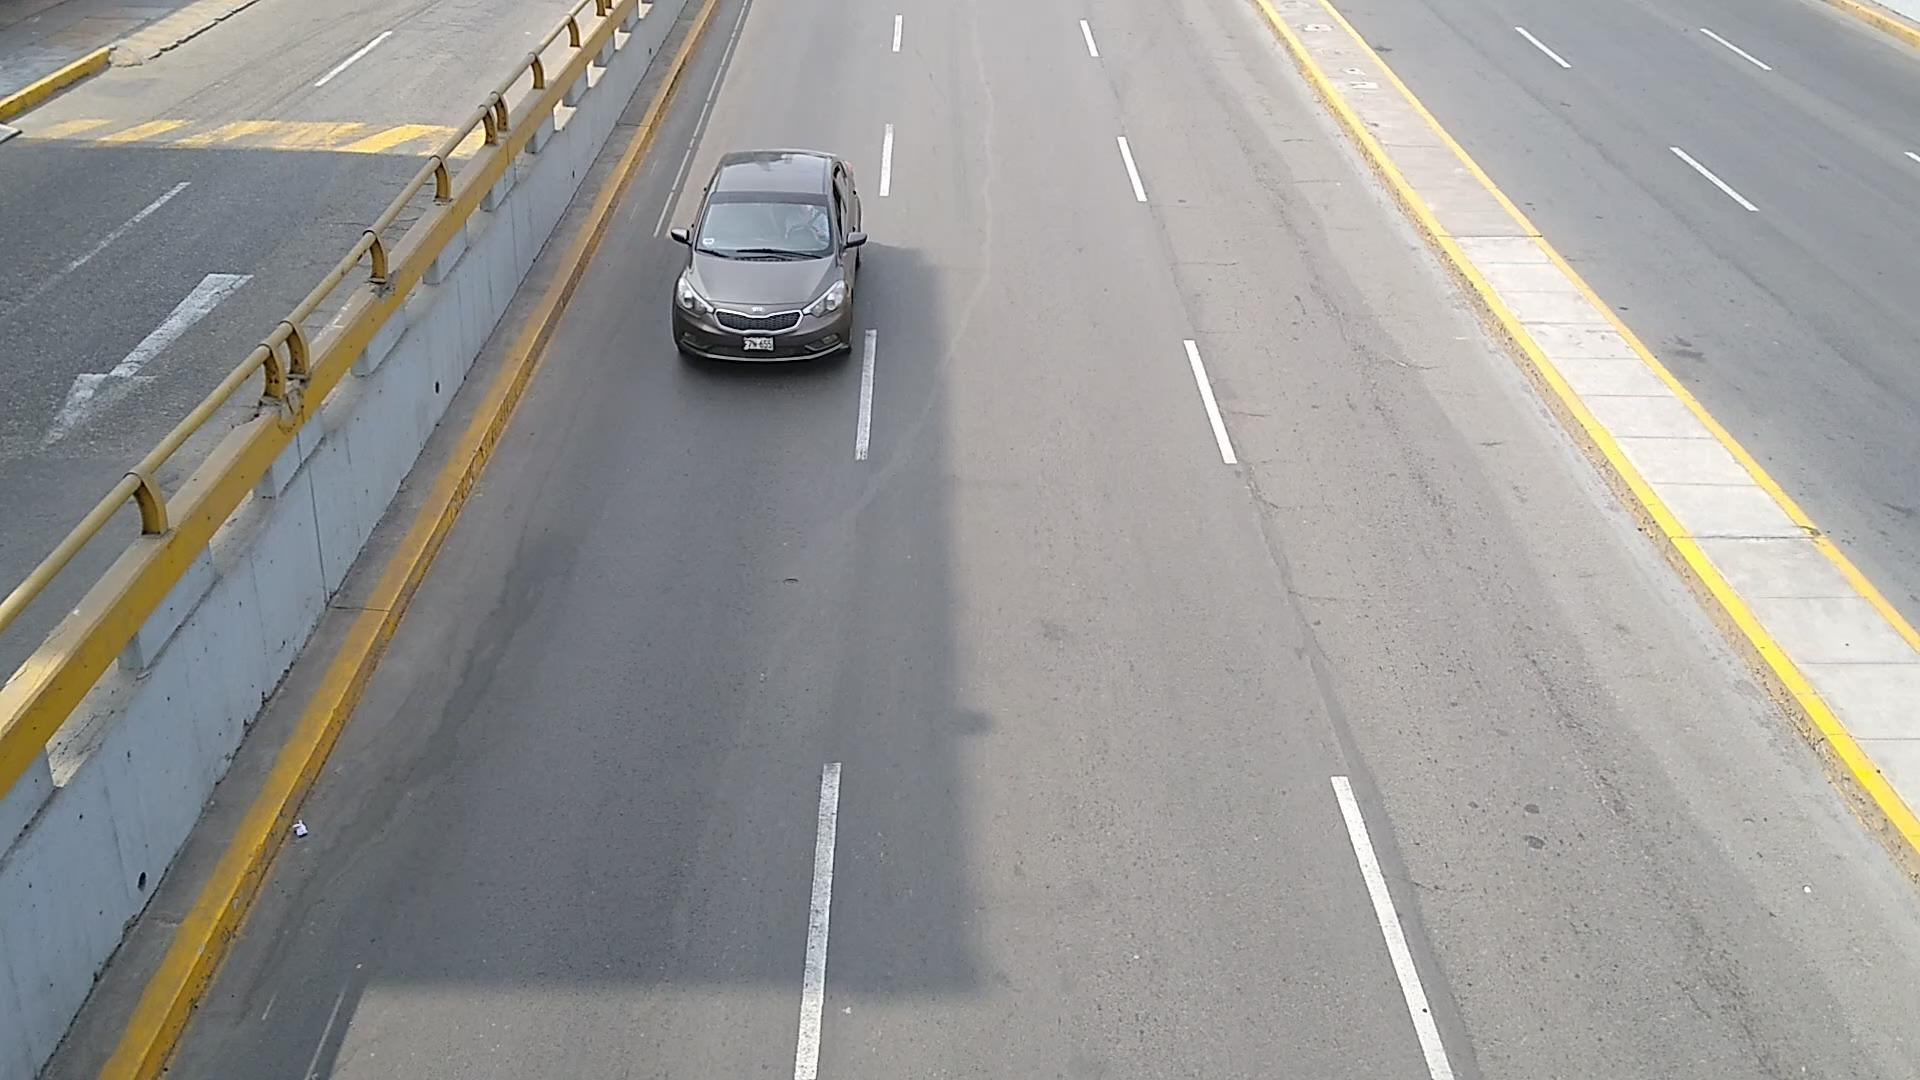car: (671, 150, 866, 360)
